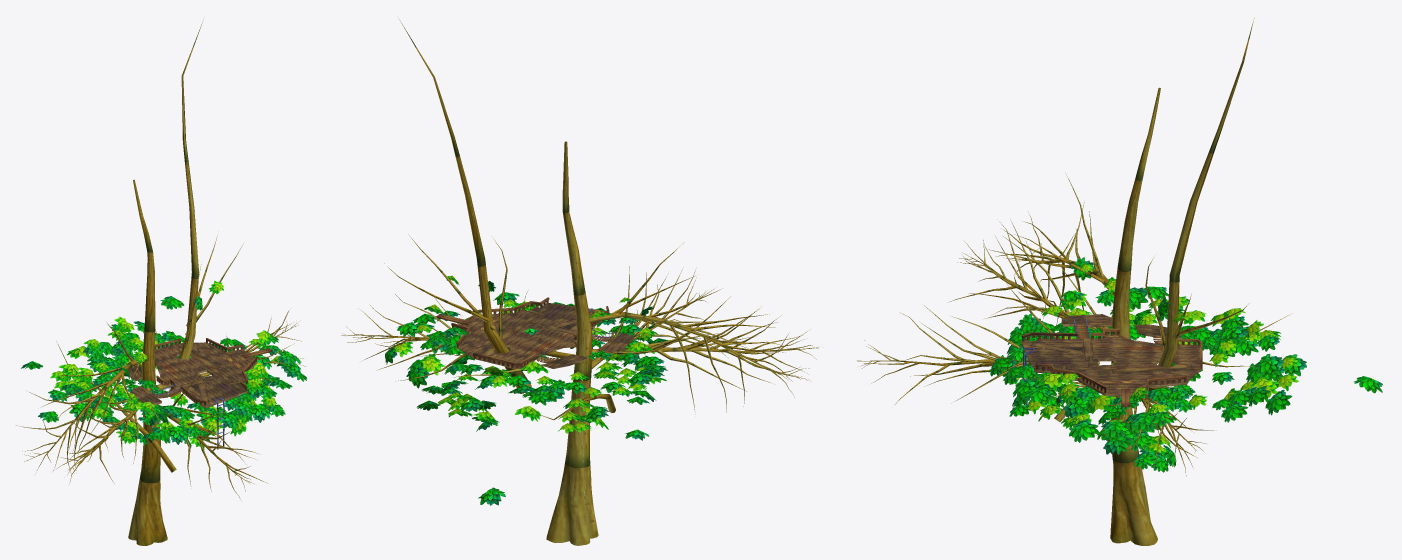
The picture shows the model from 3 angles, left to right: view 1: azimuth 30°, elevation 25°; view 2: azimuth 150°, elevation 25°; view 3: azimuth 270°, elevation 25°; orthographic projection. The views are drawn at different scales.
Visible parts, largest first — view 1: Foliage002, floor_low, v_body003, v_body002, v_body004, v_body005, v_body001, Railing002; view 2: Foliage002, floor_low, v_body004, v_body005, v_body001, v_body003, v_body002, Railing002; view 3: Foliage002, floor_low, v_body005, v_body001, v_body002, v_body004, v_body003, Railing002.
Part boxes in pixels (box(x1,y1,x2,y2)): Foliage002: box(16, 20, 305, 545); floor_low: box(128, 342, 257, 407); v_body003: box(91, 383, 210, 449); v_body002: box(83, 339, 292, 440); v_body004: box(38, 356, 155, 422); v_body005: box(21, 296, 236, 382); v_body001: box(211, 330, 307, 401); Railing002: box(142, 338, 257, 405); Foliage002: box(341, 19, 818, 545); floor_low: box(455, 303, 634, 368); v_body004: box(519, 306, 664, 440); v_body005: box(416, 327, 556, 505); v_body001: box(385, 304, 513, 388); v_body003: box(586, 318, 667, 391); v_body002: box(444, 292, 610, 384); Railing002: box(451, 297, 609, 368); Foliage002: box(857, 17, 1292, 545); floor_low: box(1021, 314, 1202, 397); v_body005: box(1169, 316, 1382, 422); v_body001: box(1055, 382, 1195, 472); v_body002: box(988, 308, 1245, 451); v_body004: box(1060, 257, 1260, 366); v_body003: box(996, 290, 1141, 391); Railing002: box(1021, 328, 1202, 394).
Size of the model in its own units: 45.28 by 58.05 by 47.98.
